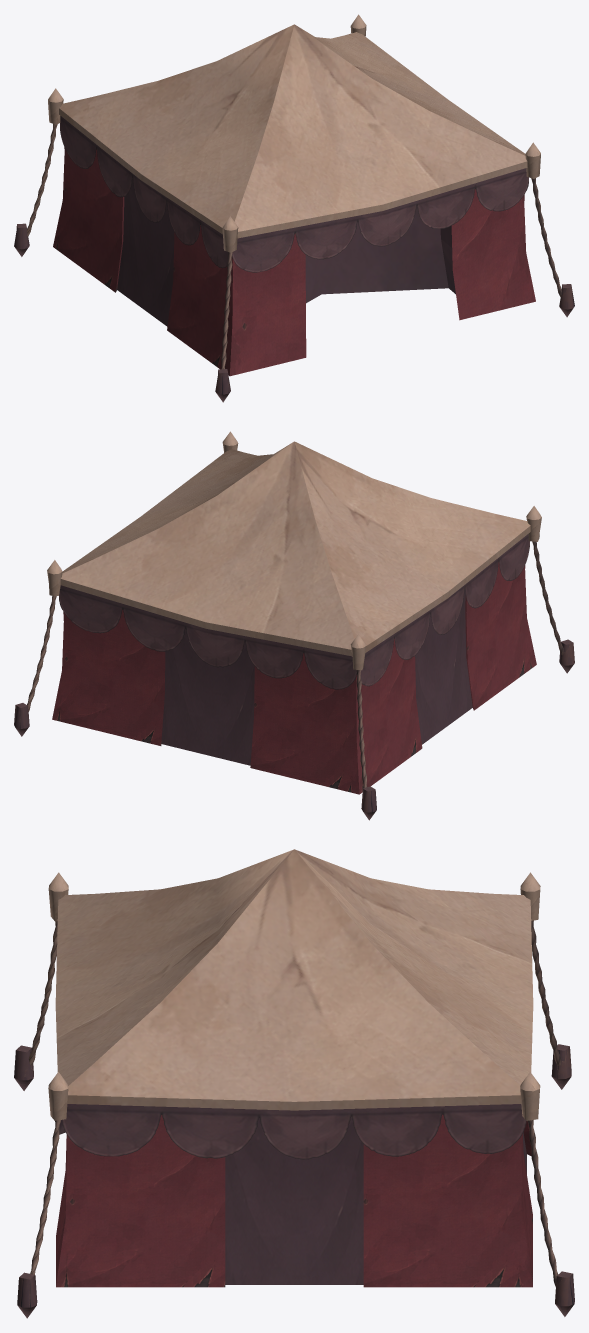
File: Tent_small.FBX
The picture shows the model from 3 angles, top to bottom: view 1: azimuth 30°, elevation 25°; view 2: azimuth 150°, elevation 25°; view 3: azimuth 270°, elevation 25°; orthographic projection. The views are drawn at different scales.
Visible parts, largest first — view 1: Box025, Object010; view 2: Box025, Object010; view 3: Box025, Object010.
Boxes of the visible parts, left/top/right/bottom form: Box025: left=14, top=14, right=574, bottom=402; Object010: left=60, top=116, right=528, bottom=272; Box025: left=14, top=431, right=574, bottom=820; Object010: left=59, top=534, right=529, bottom=689; Box025: left=14, top=849, right=574, bottom=1318; Object010: left=62, top=1104, right=526, bottom=1159.
Size of the model in its own units: 10.43 by 7.29 by 10.43.
2 materials, 2 textured.
